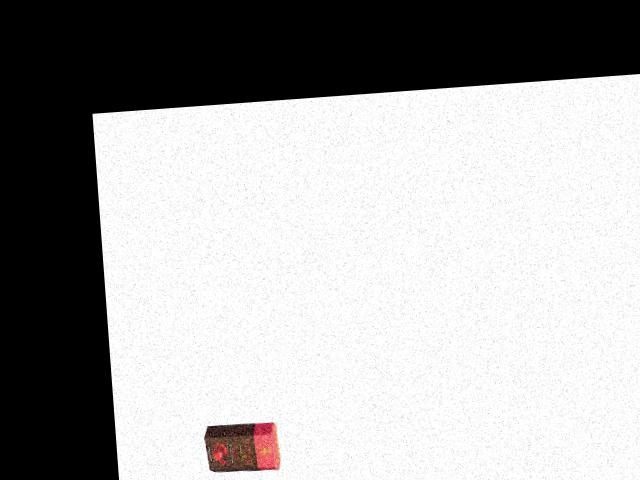chocolate: (196, 419, 283, 476)
